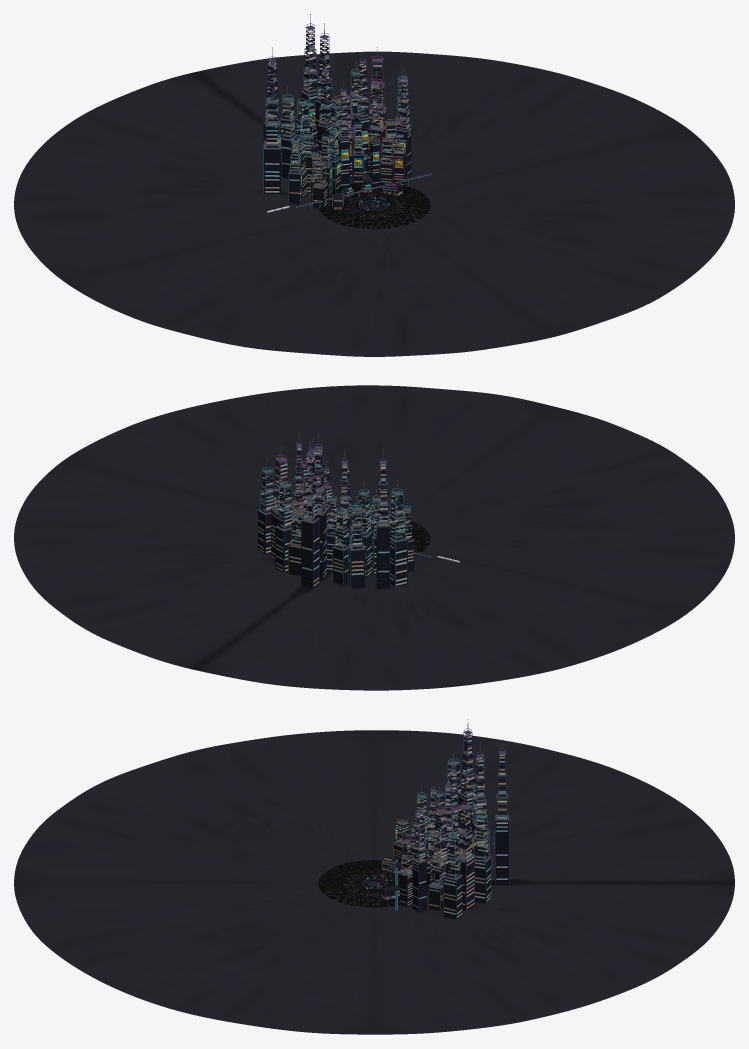
The model's file is era4.lo.glb.
3 renders of one model, top to bottom at view 1: azimuth 30°, elevation 25°; view 2: azimuth 150°, elevation 25°; view 3: azimuth 270°, elevation 25°, orthographic.
Visible parts, largest first — view 1: terrain, grassmap, tower4.088, landmark, tower2.084, tower2.072, tower0.086, tower2.075, tower2.087, tower2.069, tower1.071, tower2.064 (+9 smaller); view 2: terrain, landmark, tower2.087, tower4.088, tower4.082, tower0.086, tower0.085, tower4.080, tower2.084, tower1.081, tower4.076, tower3.083 (+3 smaller); view 3: terrain, grassmap, landmark, tower1.081, tower4.080, tower4.082, tower2.069, tower2.087, tower2.084, tower1.071, tower1.060, tower3.070 (+1 smaller).
Part boxes in pixels (x1,y1,x2,y2): terrain: [14, 51, 734, 356]; grassmap: [319, 182, 430, 229]; tower4.088: [263, 88, 281, 193]; landmark: [301, 14, 319, 139]; tower2.084: [315, 23, 334, 143]; tower2.072: [355, 52, 370, 174]; tower0.086: [280, 86, 297, 178]; tower2.075: [317, 59, 333, 161]; tower2.087: [263, 47, 280, 184]; tower2.069: [397, 68, 411, 178]; tower1.071: [367, 71, 385, 173]; tower2.064: [337, 82, 349, 186]; terrain: [14, 385, 734, 690]; landmark: [301, 441, 320, 588]; tower2.087: [376, 449, 390, 588]; tower4.088: [388, 480, 408, 586]; tower4.082: [275, 473, 296, 572]; tower0.086: [348, 496, 365, 588]; tower0.085: [332, 501, 349, 584]; tower4.080: [257, 459, 275, 554]; tower2.084: [310, 434, 326, 579]; tower1.081: [271, 446, 291, 560]; tower4.076: [354, 482, 373, 577]; tower3.083: [288, 500, 309, 575]; terrain: [14, 730, 734, 1034]; grassmap: [318, 860, 427, 907]; landmark: [494, 739, 509, 885]; tower1.081: [453, 793, 474, 910]; tower4.080: [443, 825, 462, 919]; tower4.082: [473, 804, 491, 903]; tower2.069: [412, 801, 426, 912]; tower2.087: [458, 719, 475, 851]; tower2.084: [471, 742, 488, 854]; tower1.071: [431, 799, 451, 880]; tower1.060: [400, 833, 412, 906]; tower3.070: [428, 850, 444, 910].
Size of the model in its own units: 440 by 97.54 by 440.
